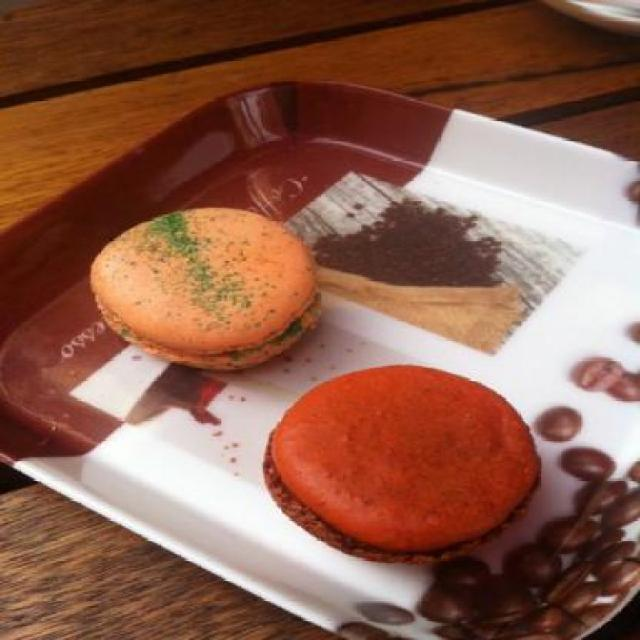Macaron: (73, 198, 553, 582)
